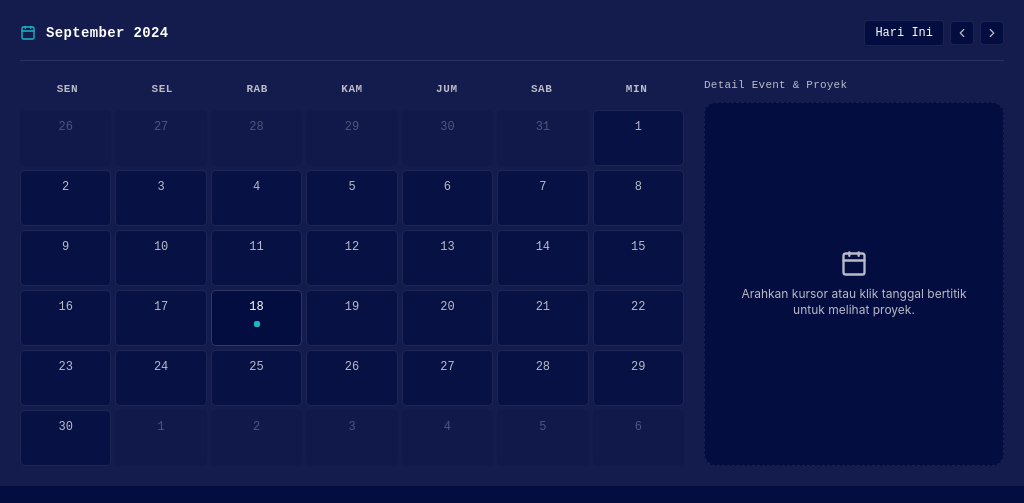
Test: CalendarApp RTL Component Tests › displays project card when hovering over a date with project (e.g. 2024-09-18)
Expected: the element with test id "project-dot-2024-09-18" is shown, left=254, top=320, right=260, bottom=326
Note: Hover over cell
Hover over the element with test id "calendar-cell-2024-09-18" at (256, 318), box left=211, top=290, right=302, bottom=346
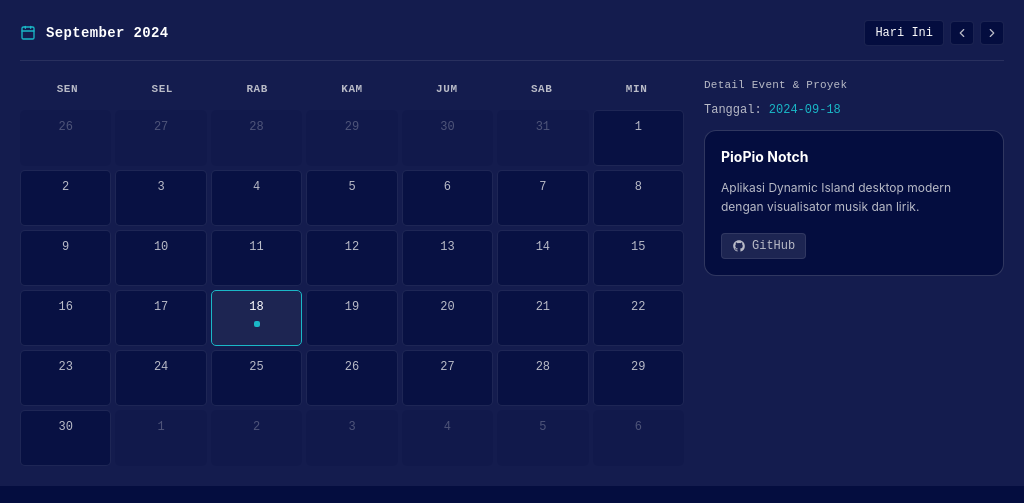
Now the element with test id "project-card" is shown, box left=704, top=102, right=1004, bottom=276
Now the heading "PioPio Notch" is shown, box left=721, top=146, right=808, bottom=166
Now the text "GitHub" is shown, box left=752, top=238, right=795, bottom=254
